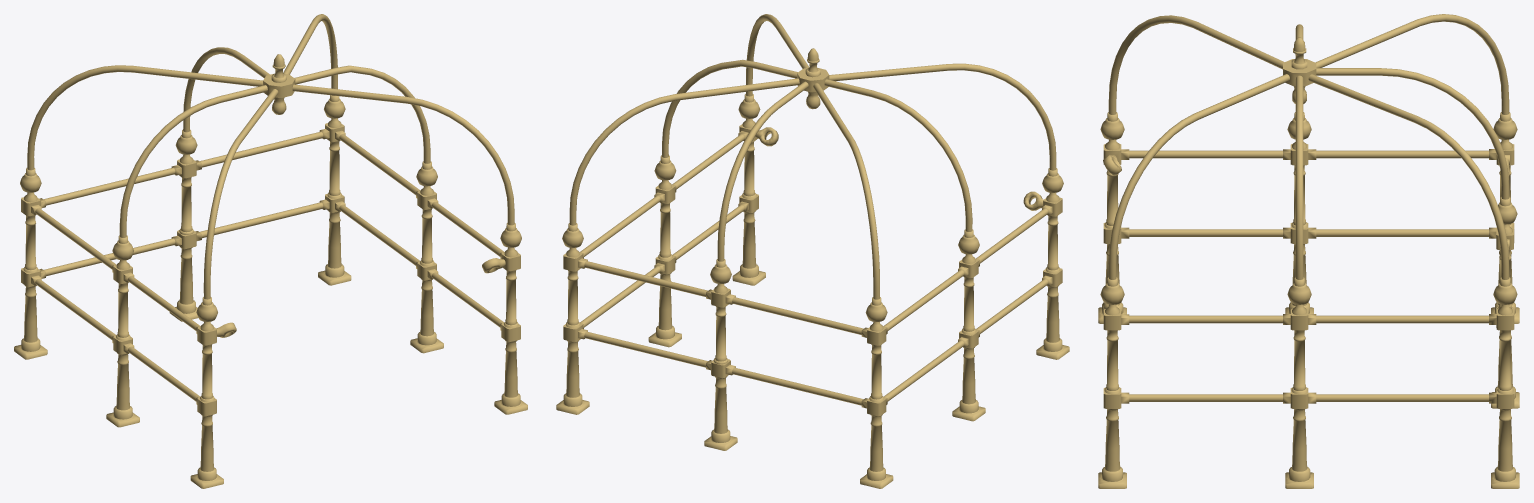
The model's file is HatchCovers_004_Mesh.fbx.
3 renders of one model, left to right at view 1: azimuth 30°, elevation 25°; view 2: azimuth 150°, elevation 25°; view 3: azimuth 270°, elevation 25°, orthographic. The views are drawn at different scales.
Visible parts, largest first — view 1: HatchRails.004; view 2: HatchRails.004; view 3: HatchRails.004.
Boxes of the visible parts, x1=… form: HatchRails.004: x1=14, y1=14, x2=527, y2=488; HatchRails.004: x1=556, y1=14, x2=1069, y2=488; HatchRails.004: x1=1098, y1=14, x2=1519, y2=488.
Size of the model in its own units: 145 by 139 by 146.
